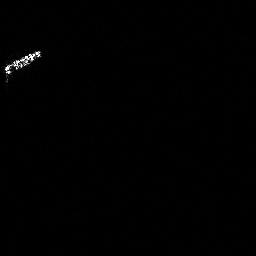ship: (4, 50, 41, 84)
